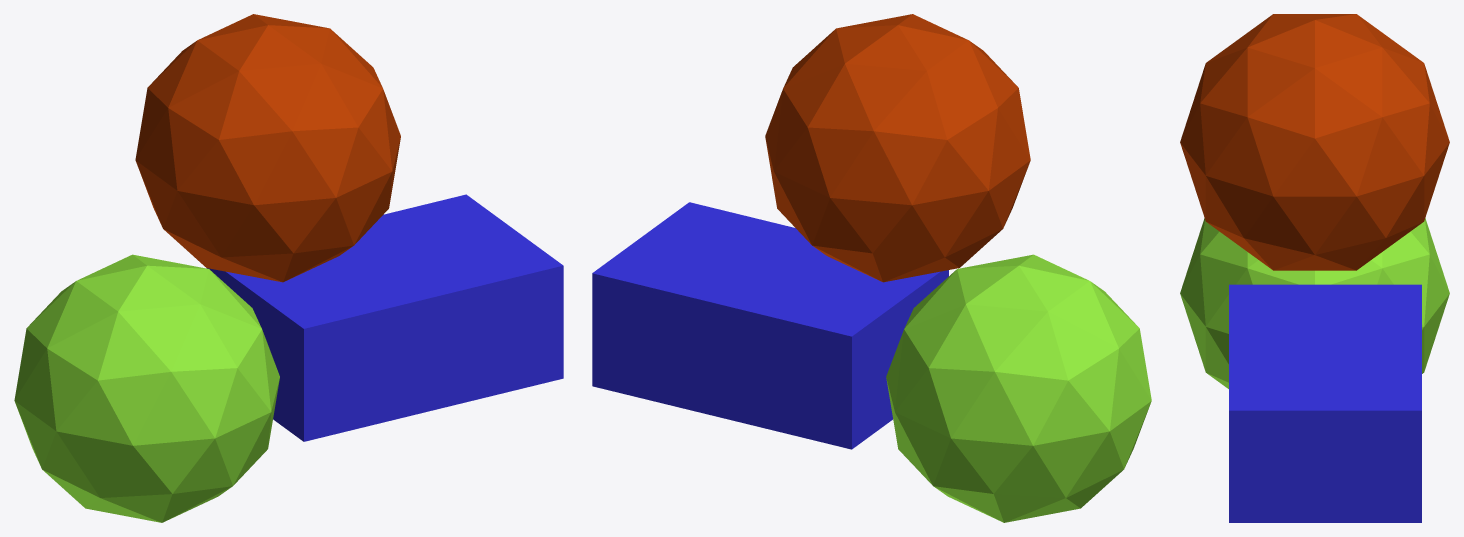
3 views of the same model, side by side, from view 1: azimuth 30°, elevation 25°; view 2: azimuth 150°, elevation 25°; view 3: azimuth 270°, elevation 25° (orthographic).
Parts seen in each view (by area): view 1: Cube, Icosphere.001, Icosphere.005; view 2: Cube, Icosphere.005, Icosphere.001; view 3: Icosphere.005, Cube, Icosphere.001.
Boxes of the visible parts, x1,y1,x2,y2 form: Cube: [206, 194, 563, 441]; Icosphere.001: [14, 254, 279, 522]; Icosphere.005: [135, 14, 400, 282]; Cube: [592, 202, 948, 449]; Icosphere.005: [765, 14, 1030, 282]; Icosphere.001: [886, 254, 1151, 522]; Icosphere.005: [1180, 14, 1449, 270]; Cube: [1229, 284, 1421, 522]; Icosphere.001: [1180, 218, 1449, 388].
Size of the model in its own units: 4.08 by 3.67 by 1.98.
